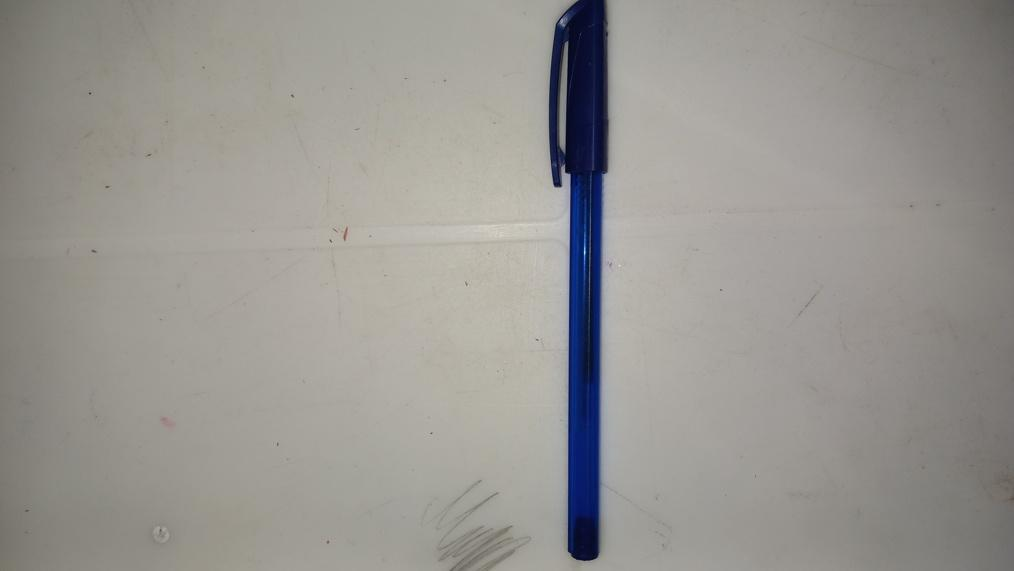pen: (546, 2, 610, 562)
